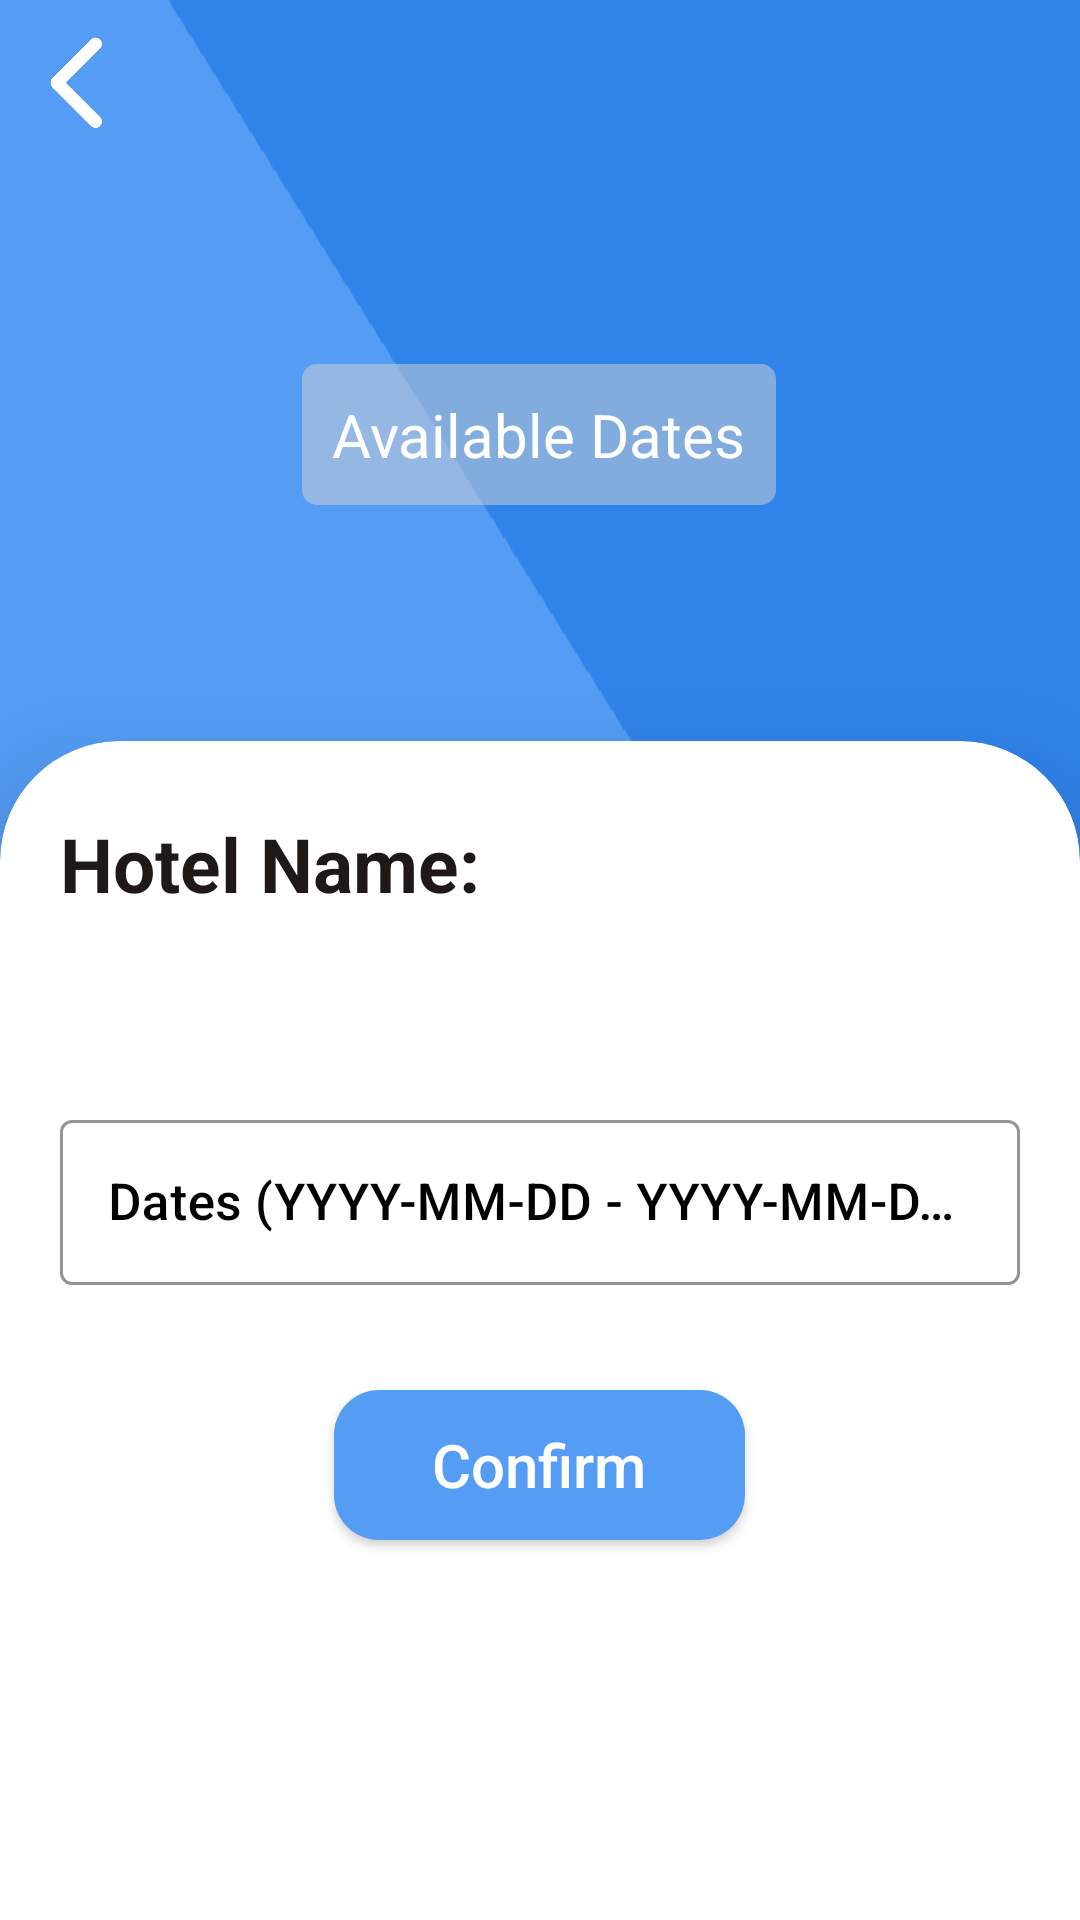

Where to tap for icons on this 1080×1920 app screen, as (x,y):
back: (76,82)
